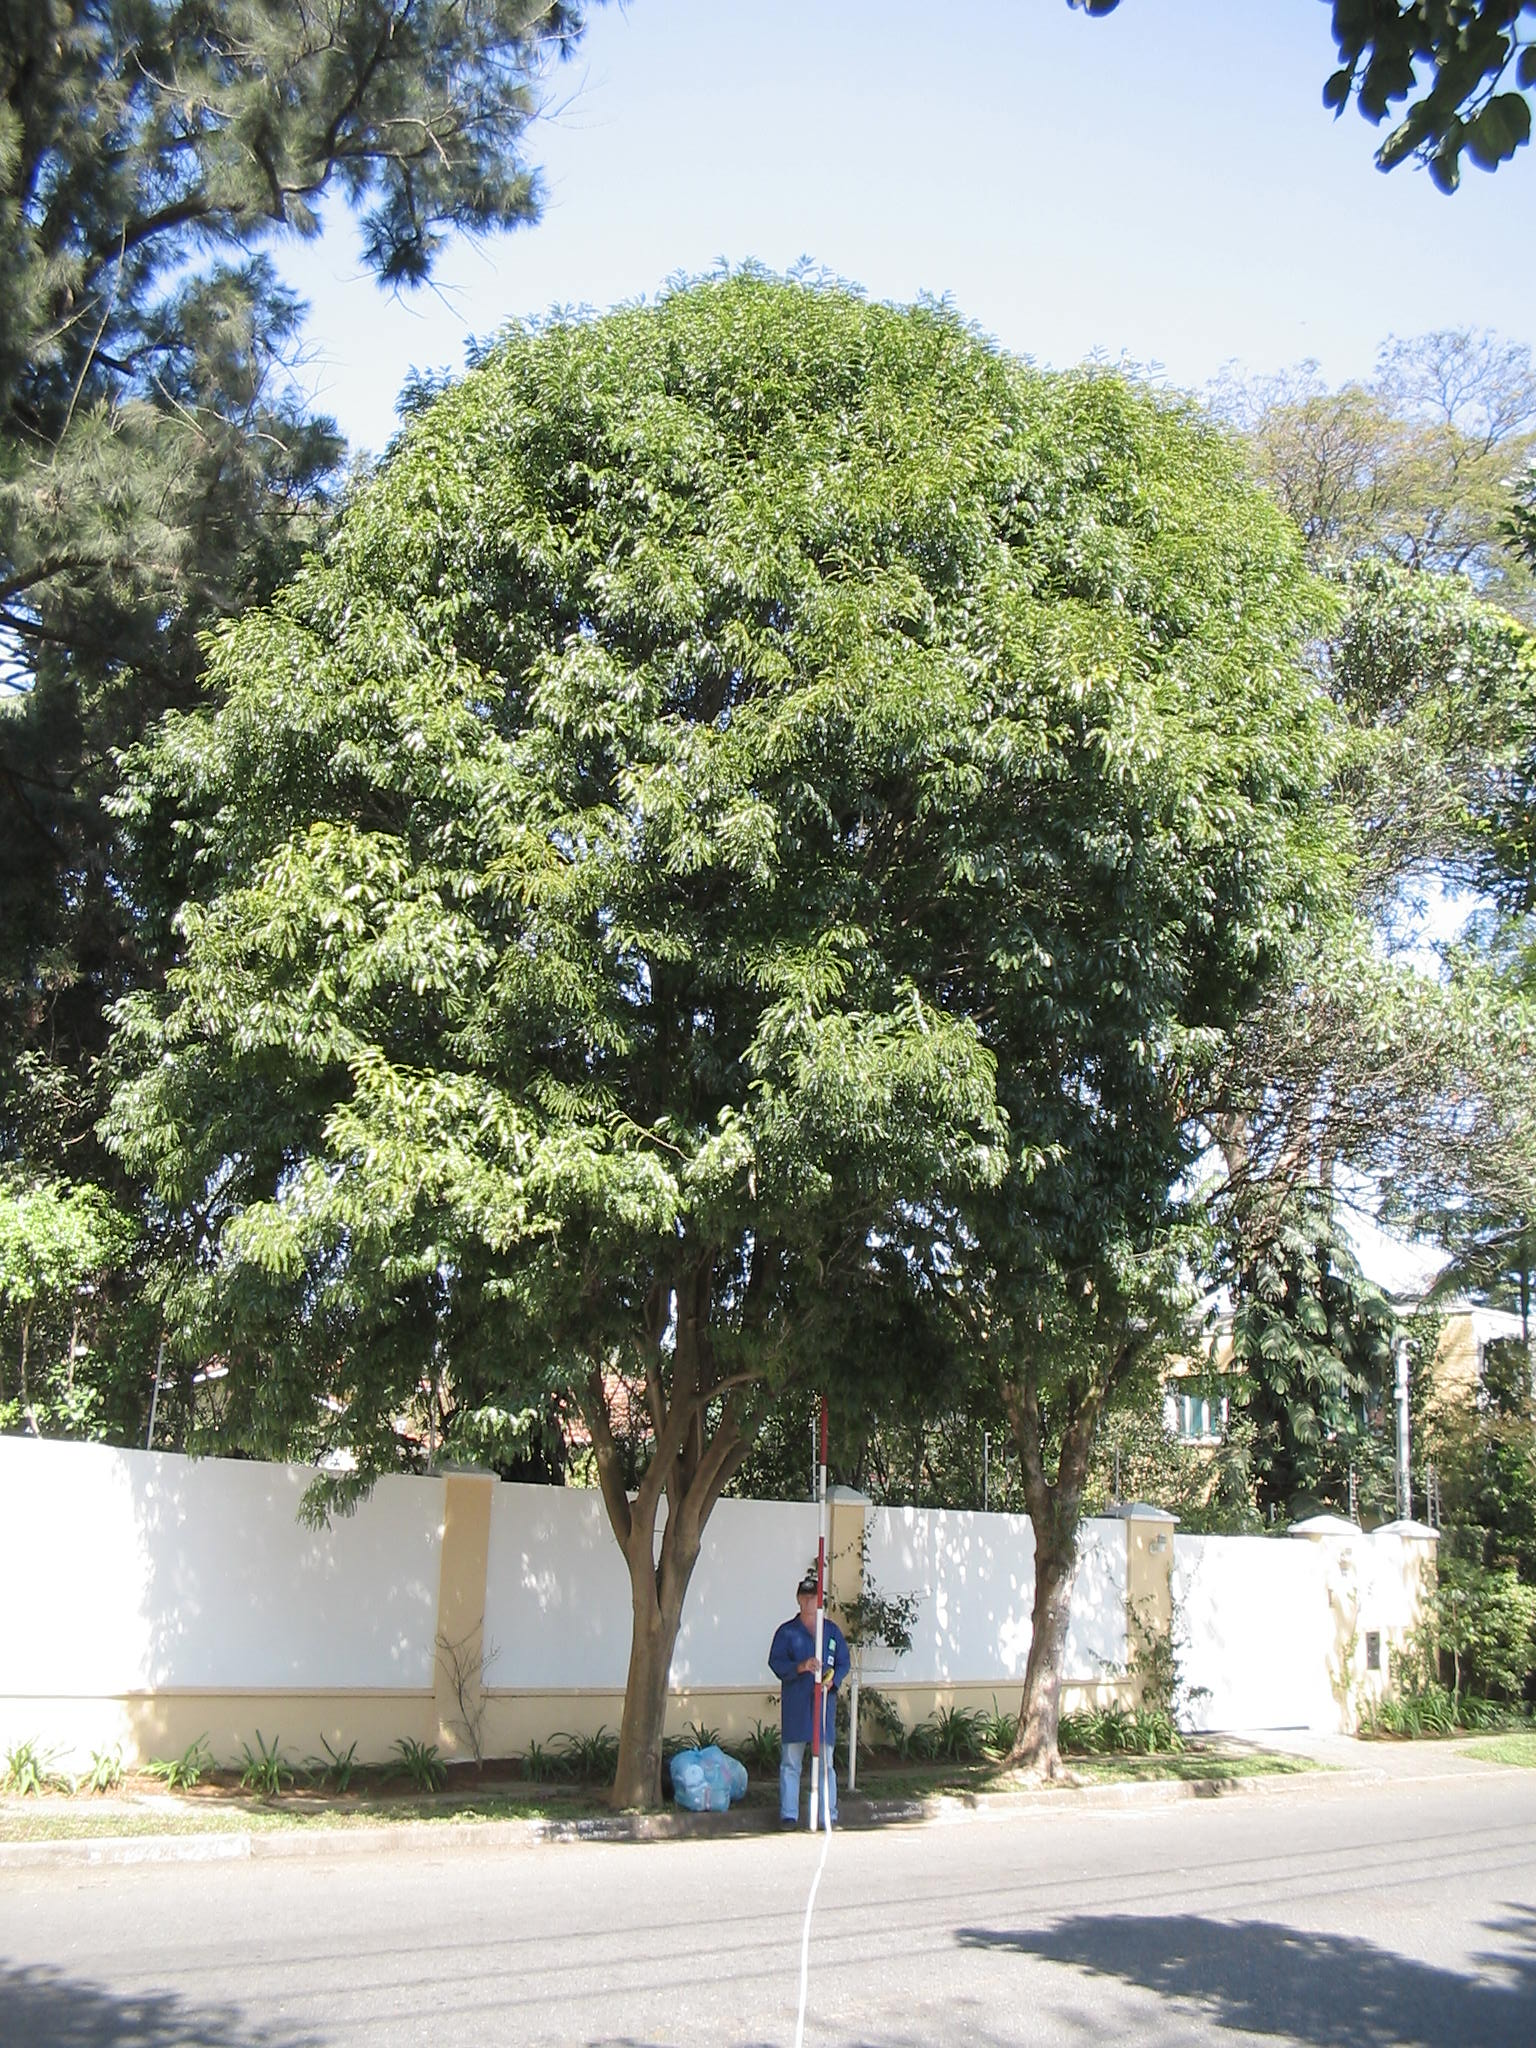crown: (103, 274, 1342, 1529)
stem: (573, 1576, 729, 1811), (978, 1516, 1112, 1782)
stick: (774, 1411, 854, 1837)
tree: (98, 266, 1346, 1813)
